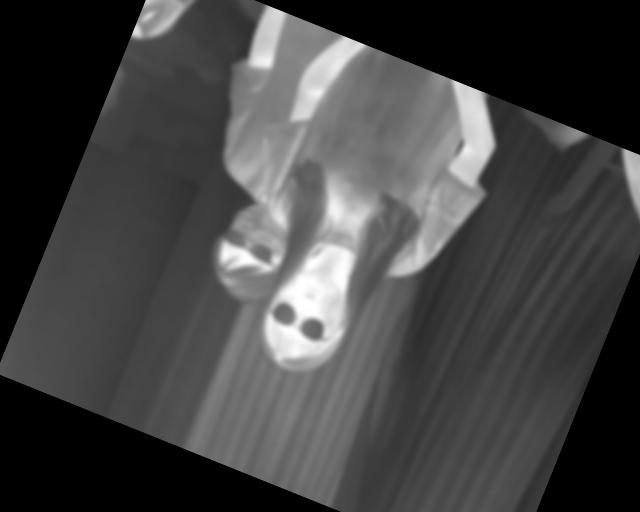face: (250, 256, 362, 384), (198, 189, 301, 310)
